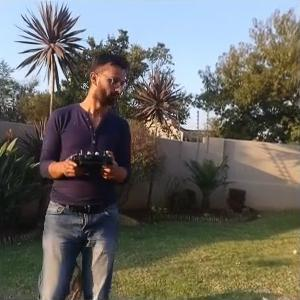follow: (32, 48, 133, 298)
